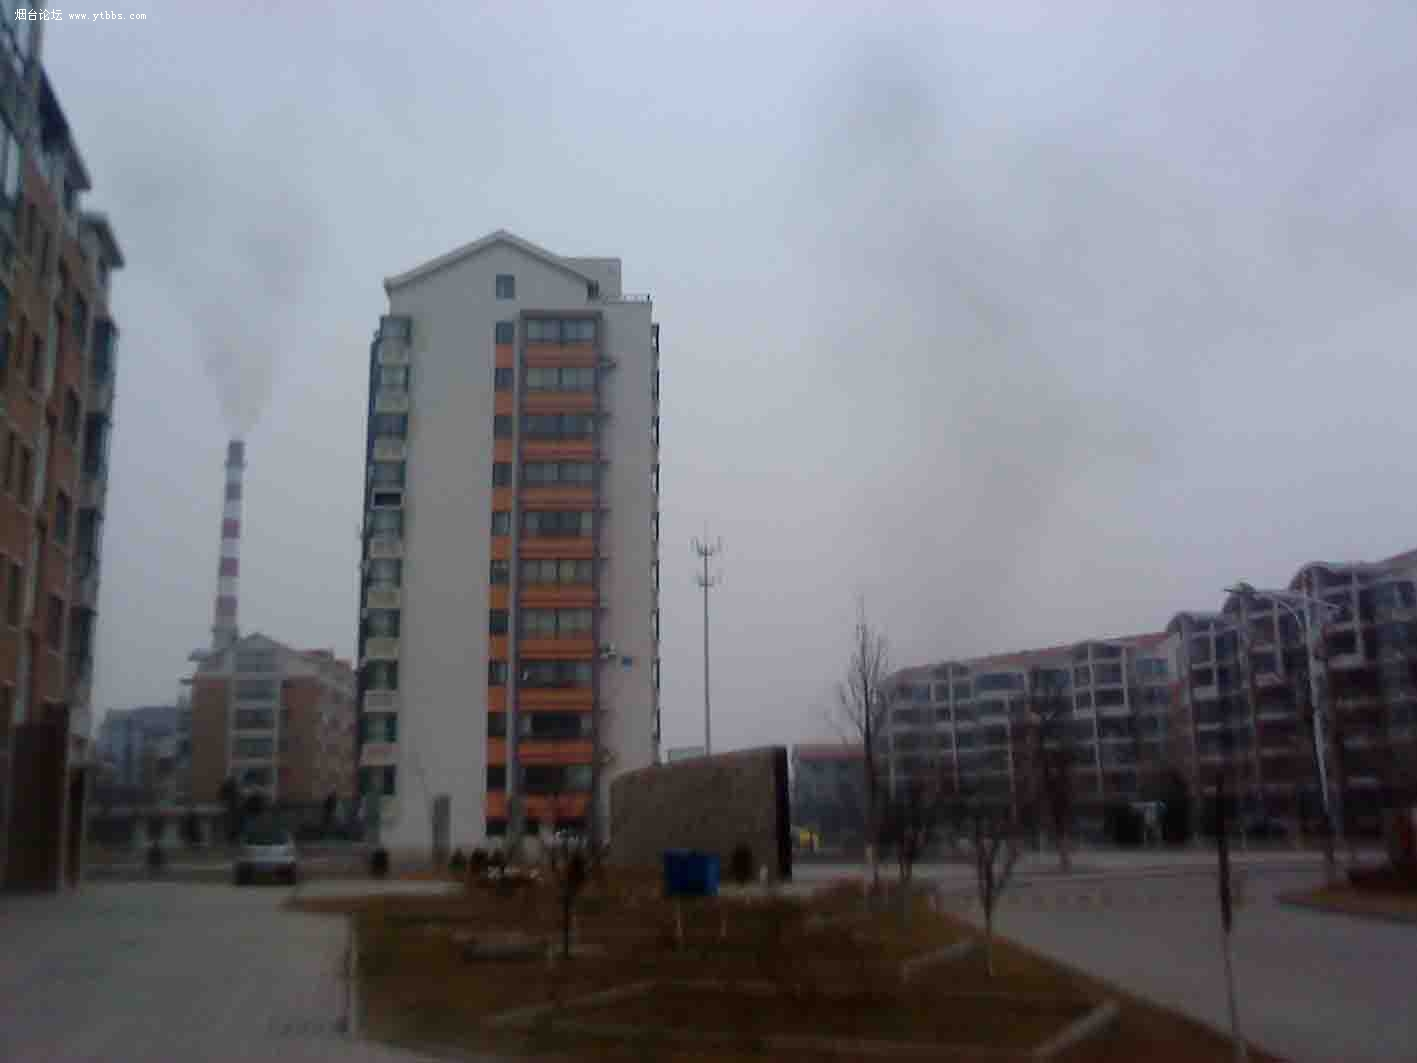dust: (167, 205, 304, 448)
